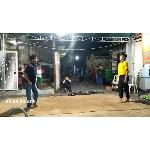Celurit: (112, 80, 122, 92)
